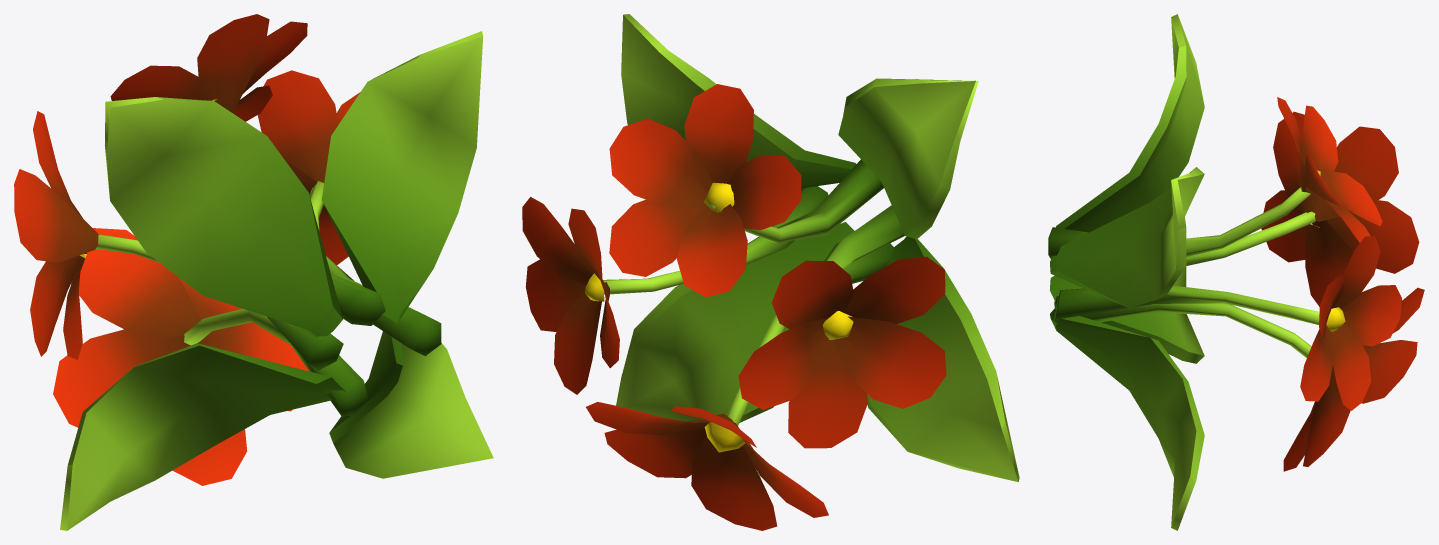
The model's file is redFlwrs.fbx.
3 renders of one model, left to right at view 1: azimuth 30°, elevation 25°; view 2: azimuth 150°, elevation 25°; view 3: azimuth 270°, elevation 25°, orthographic. The views are drawn at different scales.
Parts seen in each view (by area): view 1: FLOWERS2; view 2: FLOWERS2; view 3: FLOWERS2.
Boxes of the visible parts, <box> form: FLOWERS2: <box>14,14,493,530</box>; FLOWERS2: <box>522,14,1019,530</box>; FLOWERS2: <box>1048,14,1424,530</box>.
Size of the model in its own units: 430 by 431 by 385.
